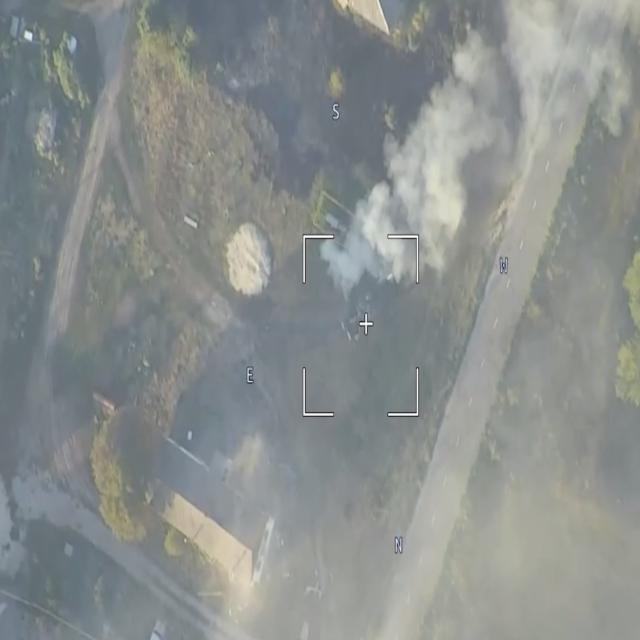vehicle: (340, 292, 373, 344)
